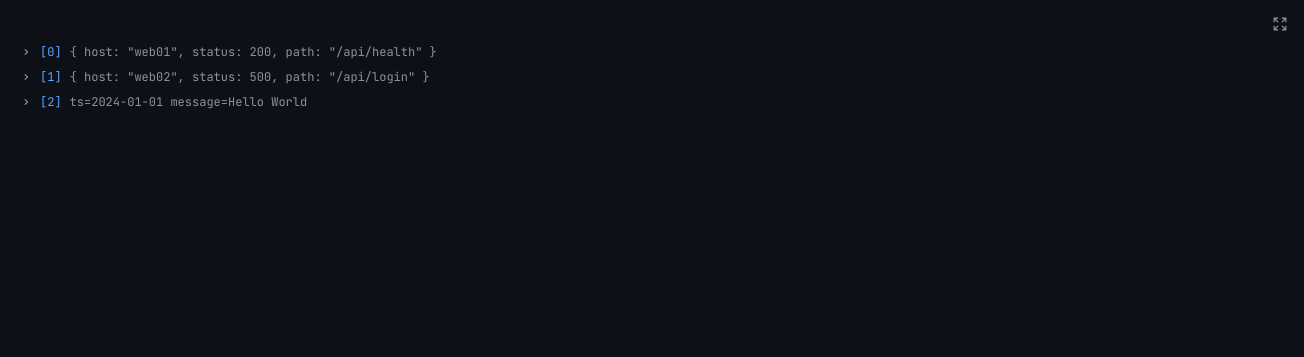
JsonBrowser › expand all button expands every event
Click the button titled "Expand all" at (1280, 24), box x1=1268 y1=12 x2=1292 y2=36
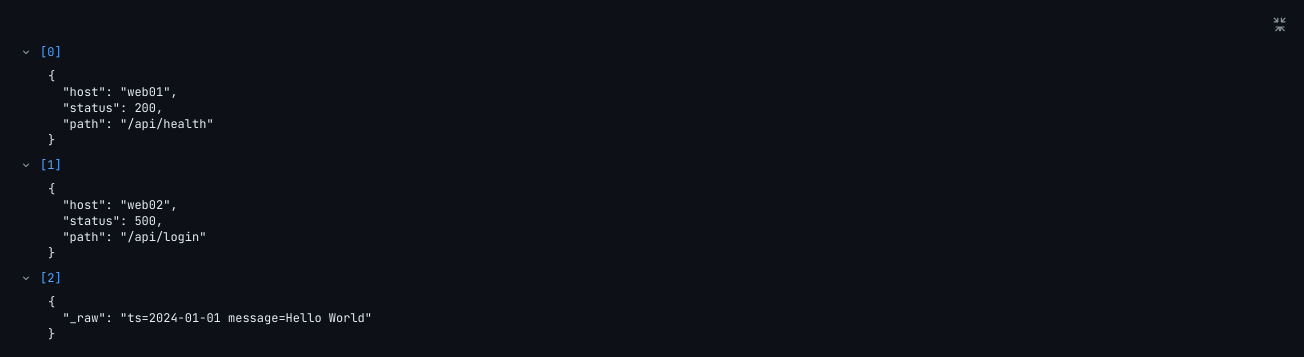
Result: the text "{ \"host\": \"web01\", \"status\": 200, \"path\": \"/api/health\" }" is shown at x1=48 y1=68 x2=214 y2=148
Result: the text "{ \"host\": \"web02\", \"status\": 500, \"path\": \"/api/login\" }" is shown at x1=48 y1=181 x2=206 y2=261
